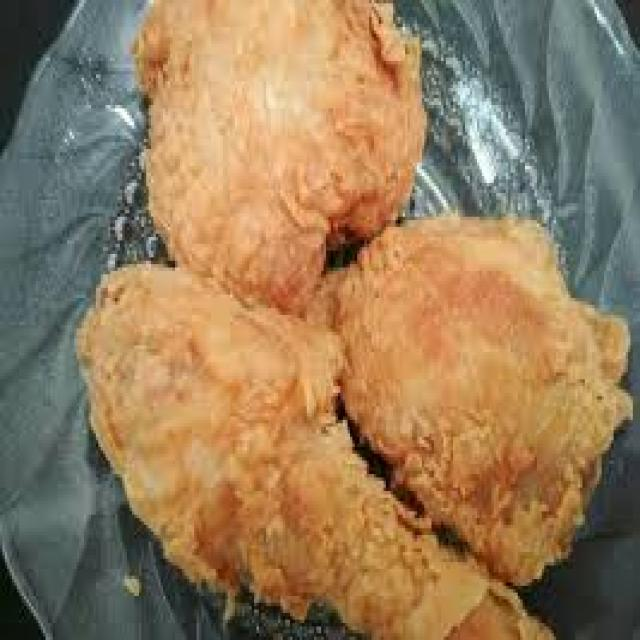Frango: (76, 260, 553, 640), (328, 210, 633, 582), (141, 0, 429, 315)
